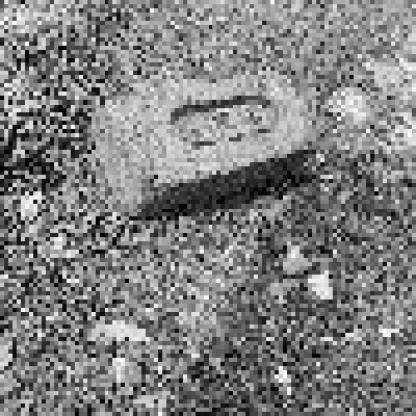brick: (88, 65, 313, 226)
